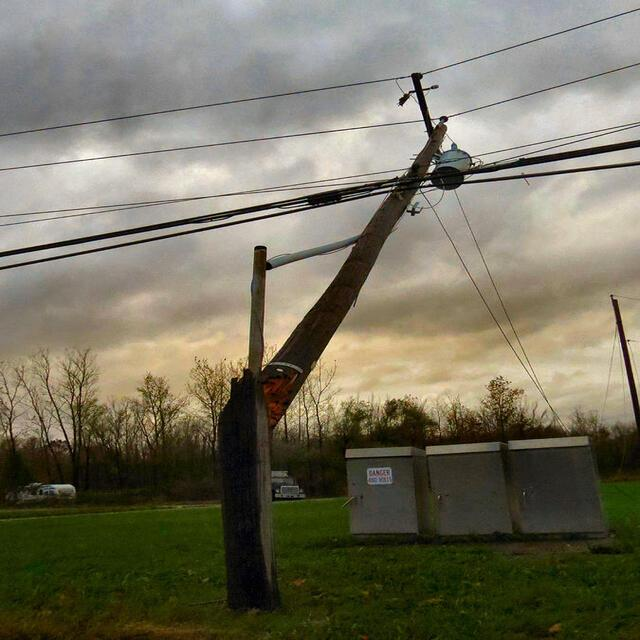Inclined Pole: (214, 63, 484, 611)
